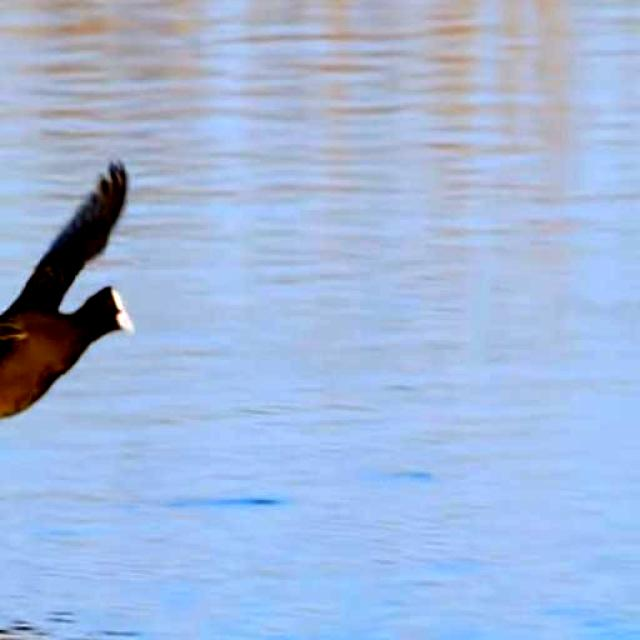airplane: (0, 152, 134, 549)
